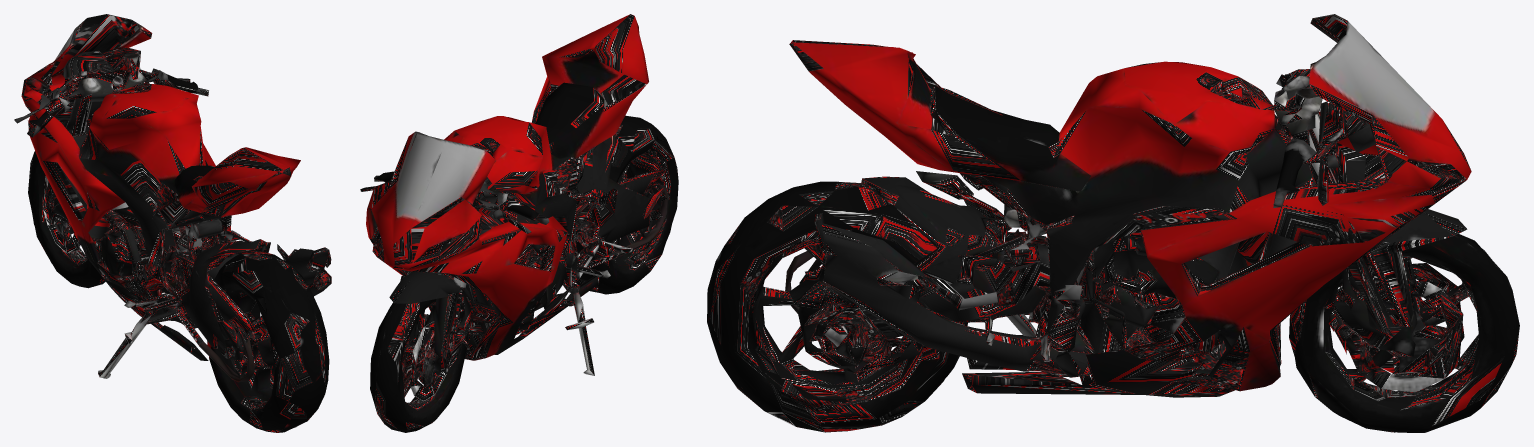
The model's file is moto-esportiva.glb.
3 renders of one model, left to right at view 1: azimuth 30°, elevation 25°; view 2: azimuth 150°, elevation 25°; view 3: azimuth 270°, elevation 25°, orthographic. The views are drawn at different scales.
Visible parts, largest first — view 1: corpo, rodaT, rodaD; view 2: corpo, rodaD, rodaT; view 3: corpo, rodaT, rodaD.
Part boxes in pixels (<box>): corpo: <box>14,14,331,378</box>; rodaT: <box>177,239,329,432</box>; rodaD: <box>28,126,120,288</box>; corpo: <box>360,14,663,375</box>; rodaD: <box>370,271,499,432</box>; rodaT: <box>575,115,678,294</box>; corpo: <box>789,14,1471,399</box>; rodaT: <box>707,176,977,432</box>; rodaD: <box>1266,209,1519,432</box>.
Bounding box in the file's own units: 0.7194 × 1.09 × 1.95.
1 material, 1 textured.
